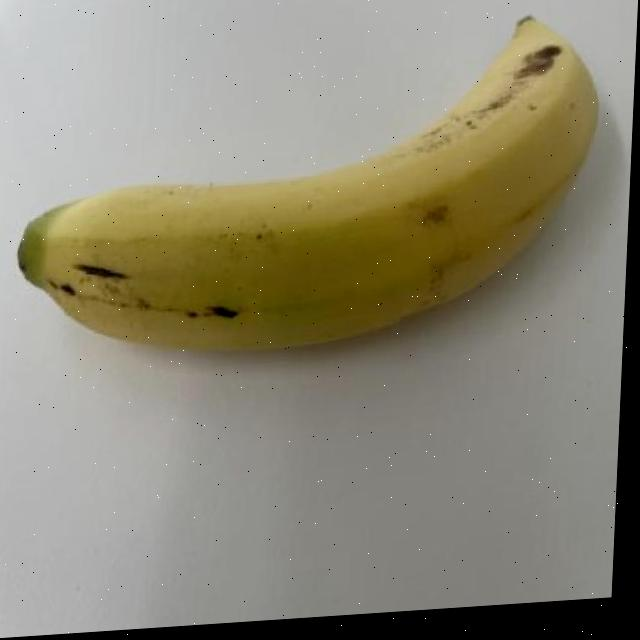banana: (3, 0, 609, 379)
